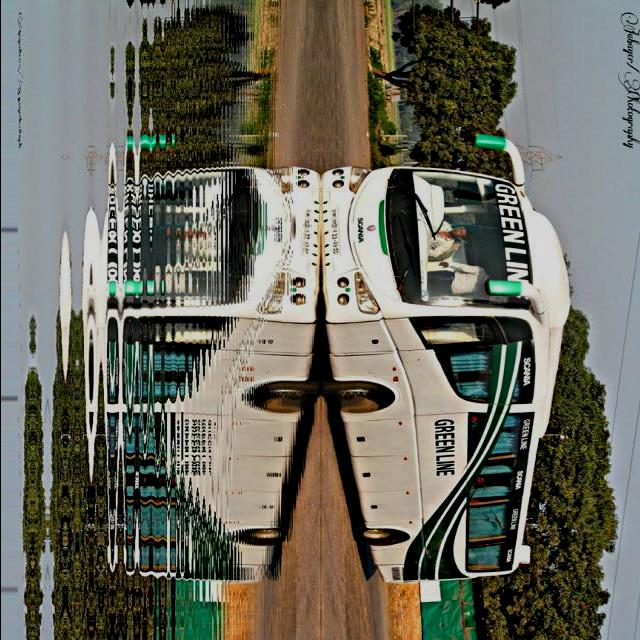bus: (318, 131, 572, 586)
